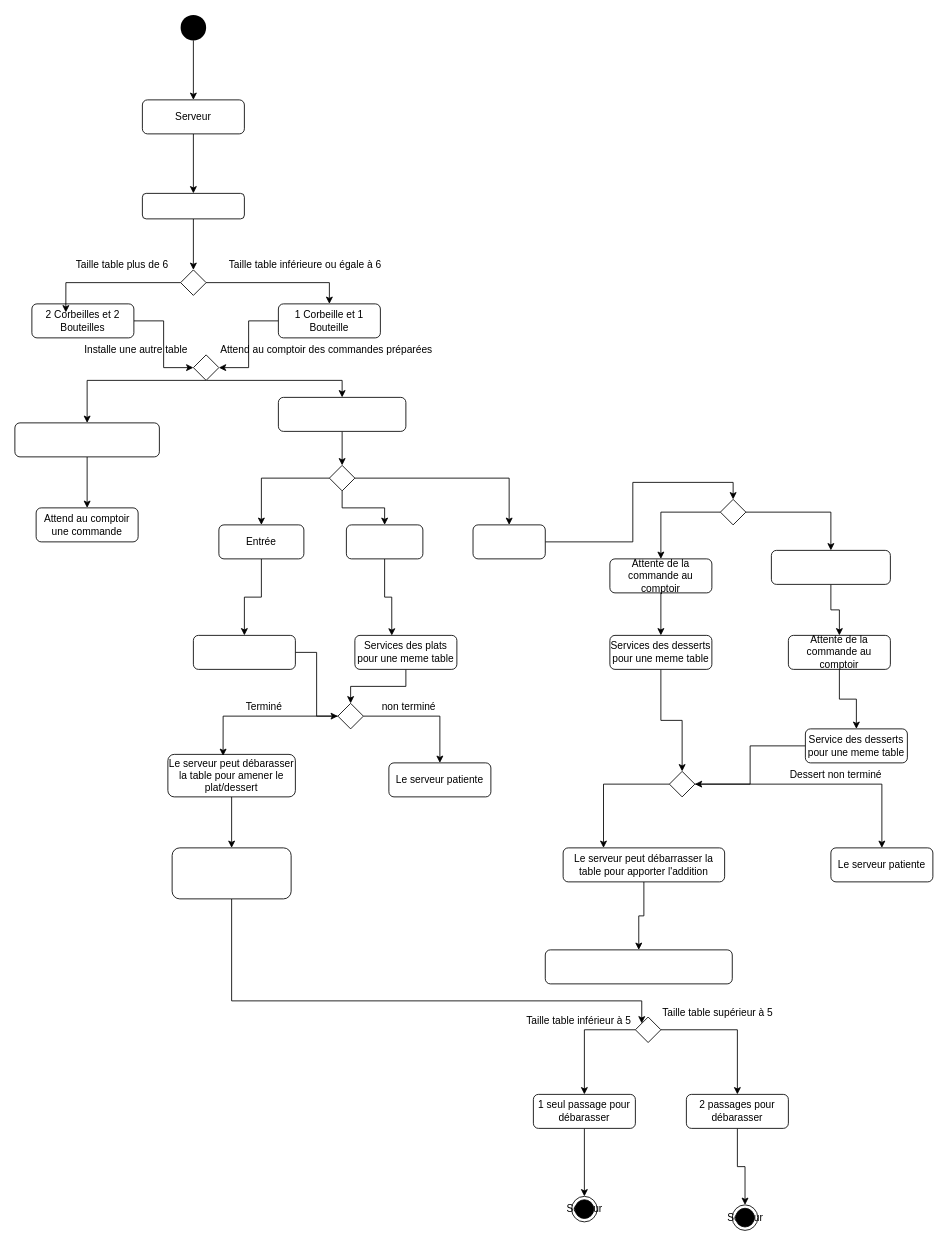
Some shapes in this 948 by 1245 pixel diagram are drawn without their labels. The box of each missing label's shape, as (x1, y1, x2, y2) in pixels:
Amène les assiettes et couverts (5 max) au comptoir des plats sales: (171, 847, 291, 899)
Amène les assiettes et couverts (5max) au comptoir des plats sales: (544, 949, 732, 984)
Arrivée d'une commande: (278, 397, 406, 431)
Dessert: (472, 524, 545, 559)
En attente de commande par le chef de rang: (771, 550, 890, 584)
Installe une autre table en fonction de la taille: (14, 422, 159, 457)
Plat: (346, 524, 423, 559)
Service des entrées pour une meme table: (193, 635, 295, 669)
Taille table: (142, 193, 244, 219)
